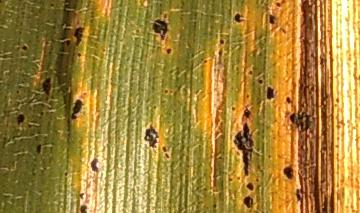tarspot: (232, 121, 258, 177), (288, 110, 312, 132), (143, 123, 161, 150), (151, 18, 170, 41), (69, 97, 83, 121), (73, 26, 85, 47), (281, 165, 296, 181), (41, 76, 53, 96), (88, 156, 101, 174), (265, 84, 277, 102), (241, 195, 255, 209), (233, 11, 244, 25), (15, 112, 25, 127), (266, 13, 276, 26), (245, 181, 256, 192), (294, 187, 302, 202), (243, 106, 252, 119), (34, 143, 44, 154), (79, 203, 89, 213), (77, 191, 86, 202), (164, 46, 173, 56), (19, 43, 29, 52), (63, 39, 73, 48), (163, 151, 172, 161), (160, 143, 168, 153), (244, 91, 252, 100), (229, 105, 237, 114), (218, 37, 226, 46), (160, 12, 168, 21), (217, 48, 224, 58), (256, 77, 264, 85), (247, 69, 255, 77), (75, 51, 83, 59), (211, 202, 218, 210), (38, 110, 46, 117), (162, 88, 169, 96), (273, 1, 280, 9), (285, 95, 291, 104), (62, 170, 69, 177), (48, 1, 55, 8), (14, 88, 20, 96), (202, 58, 209, 64), (279, 1, 286, 5), (1, 1, 3, 4)
